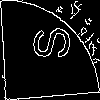S: (25, 25, 71, 62)
